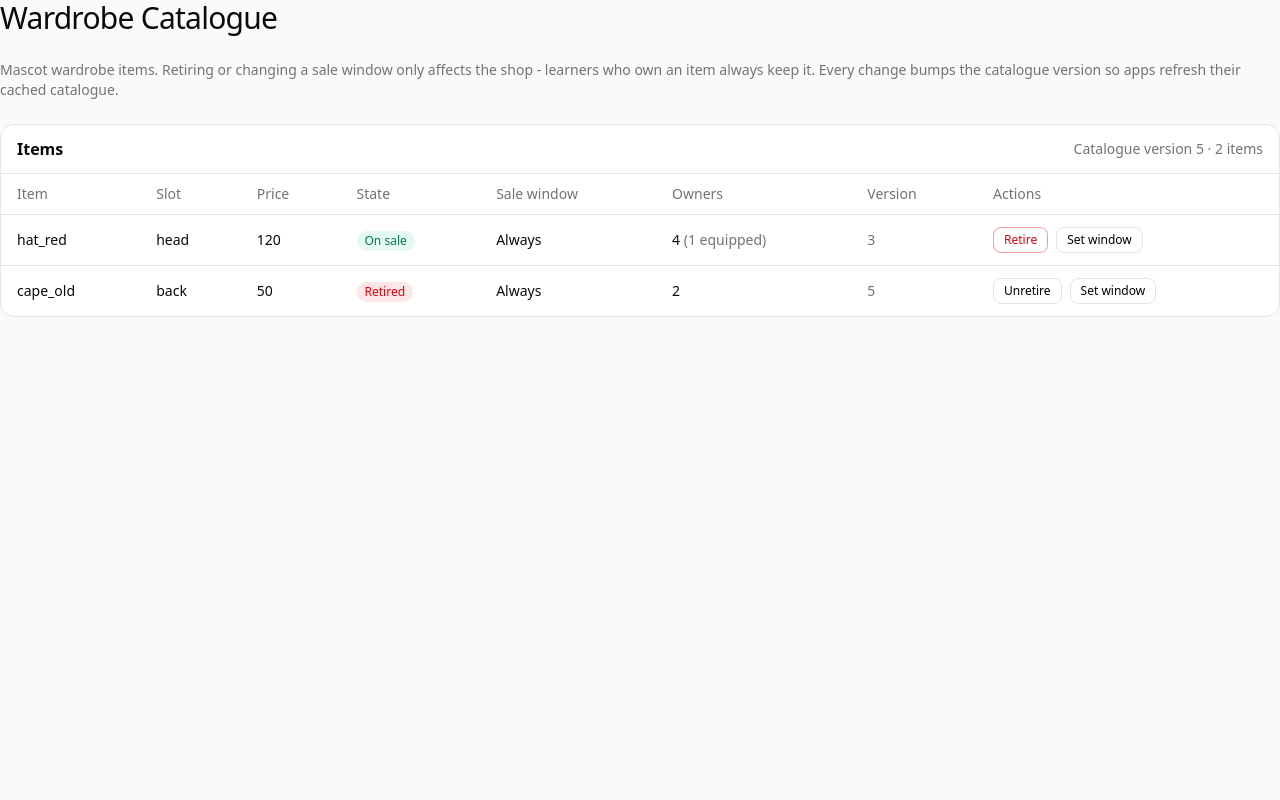
WardrobeCataloguePage › rejects a window whose start is not before its end
The image size is (1280, 800).
Click the button with aria-label "Set window for hat_red".
click(1100, 240)  # box [1056,227,1143,253]
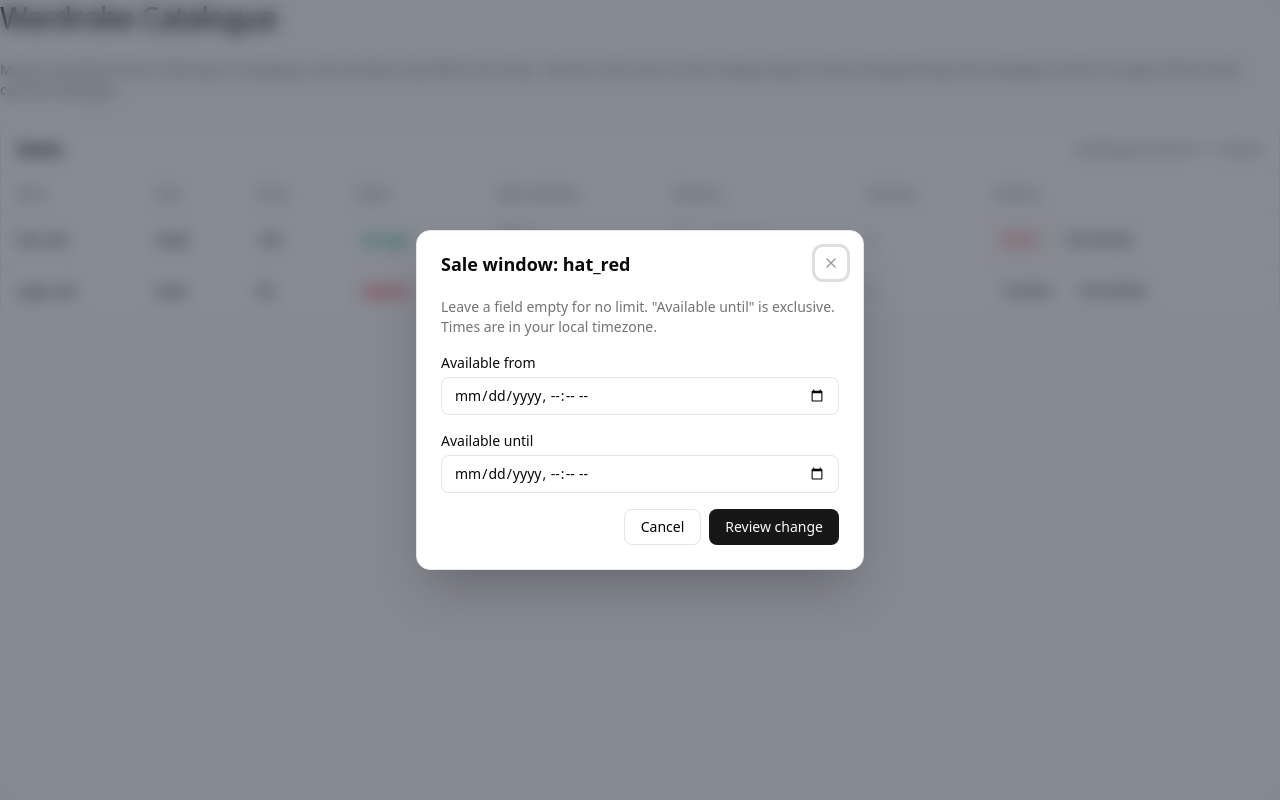
Type "2026-12-31T09:00" into the field labelled "Available from".
click(640, 396); type("2026-12-31T09:00")  # box [441,377,839,415]
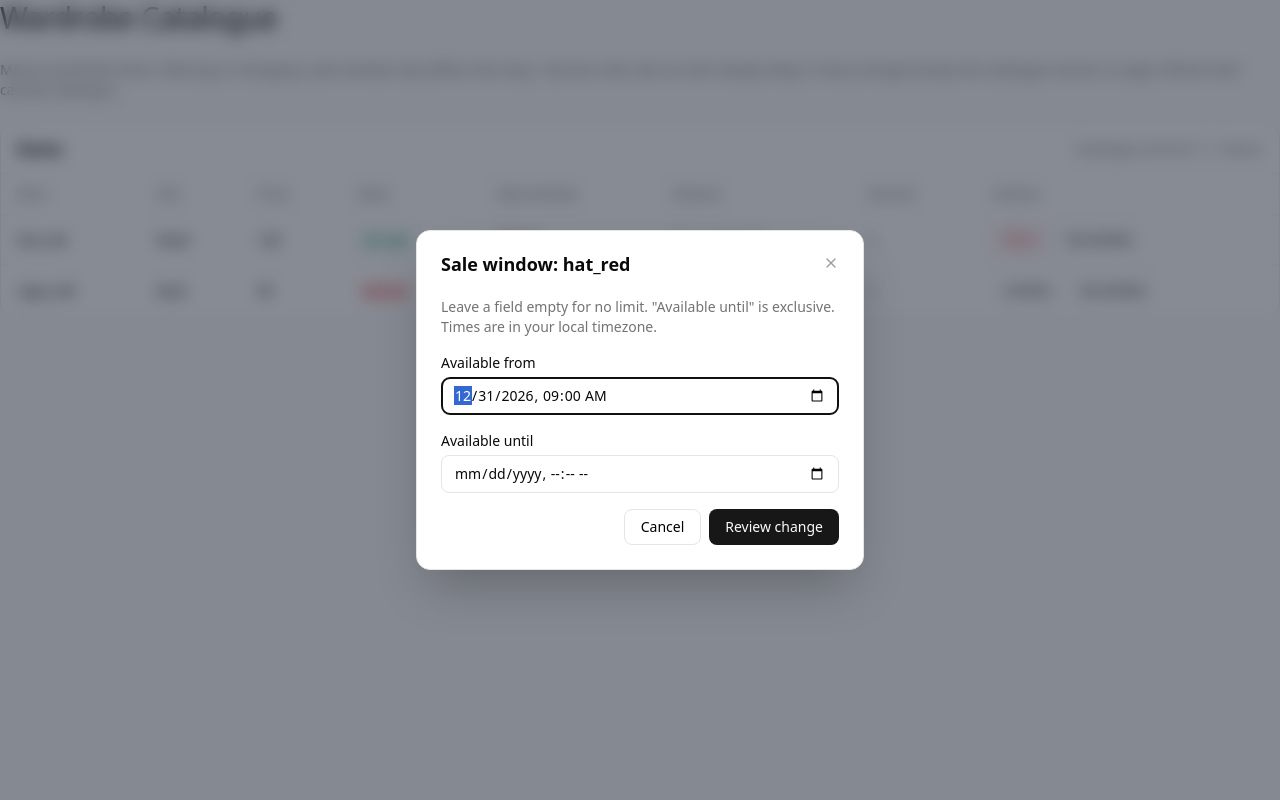
Type "2026-12-01T09:00" into the field labelled "Available until".
click(640, 474); type("2026-12-01T09:00")  # box [441,455,839,493]
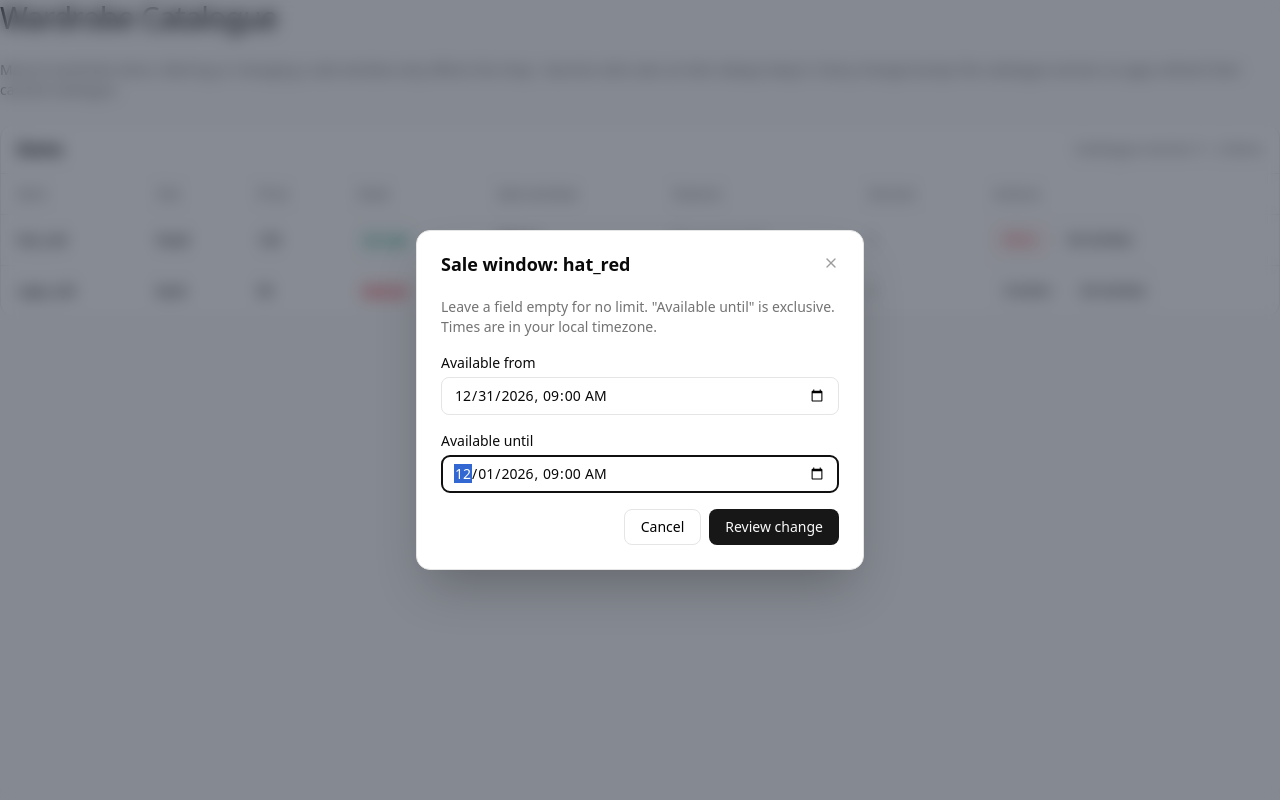
Click the button "Review change".
click(774, 527)  # box [709,509,839,545]
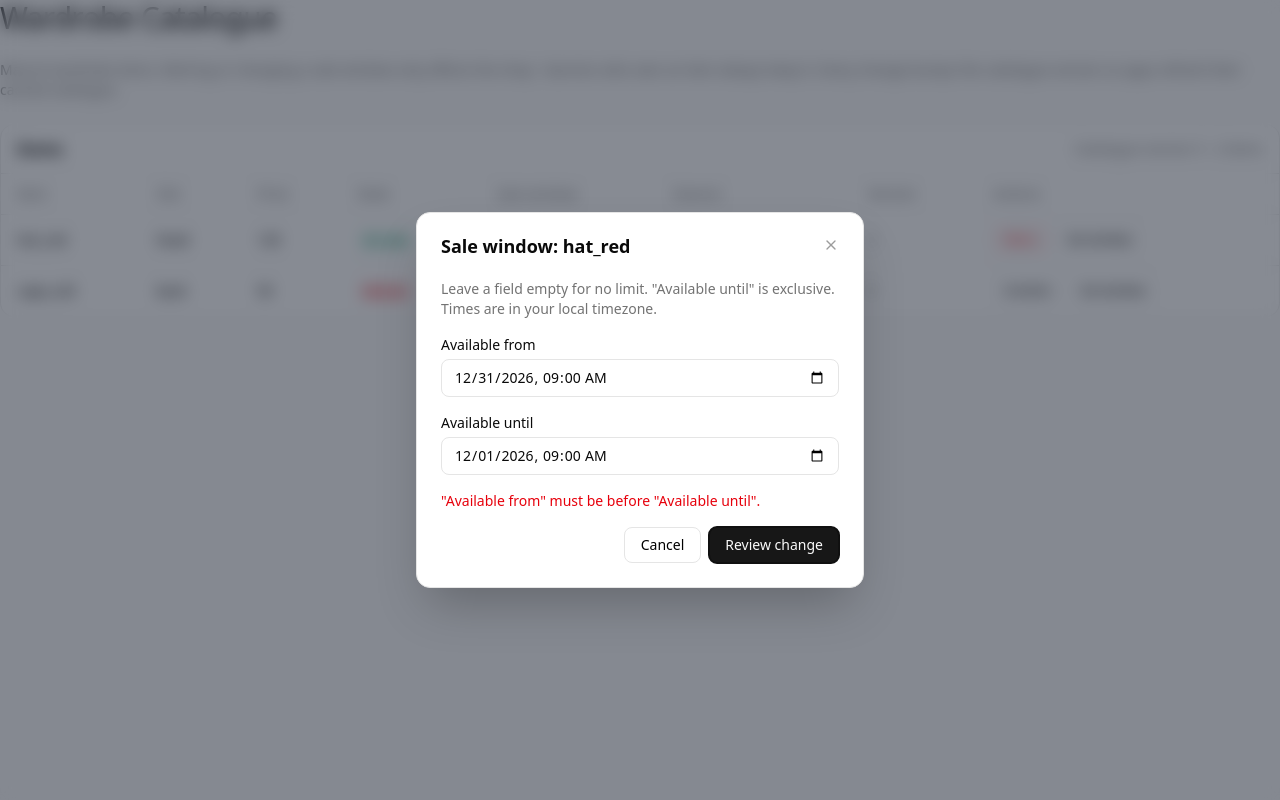
Expected: the message shows "must be before", [441,491,760,510]
